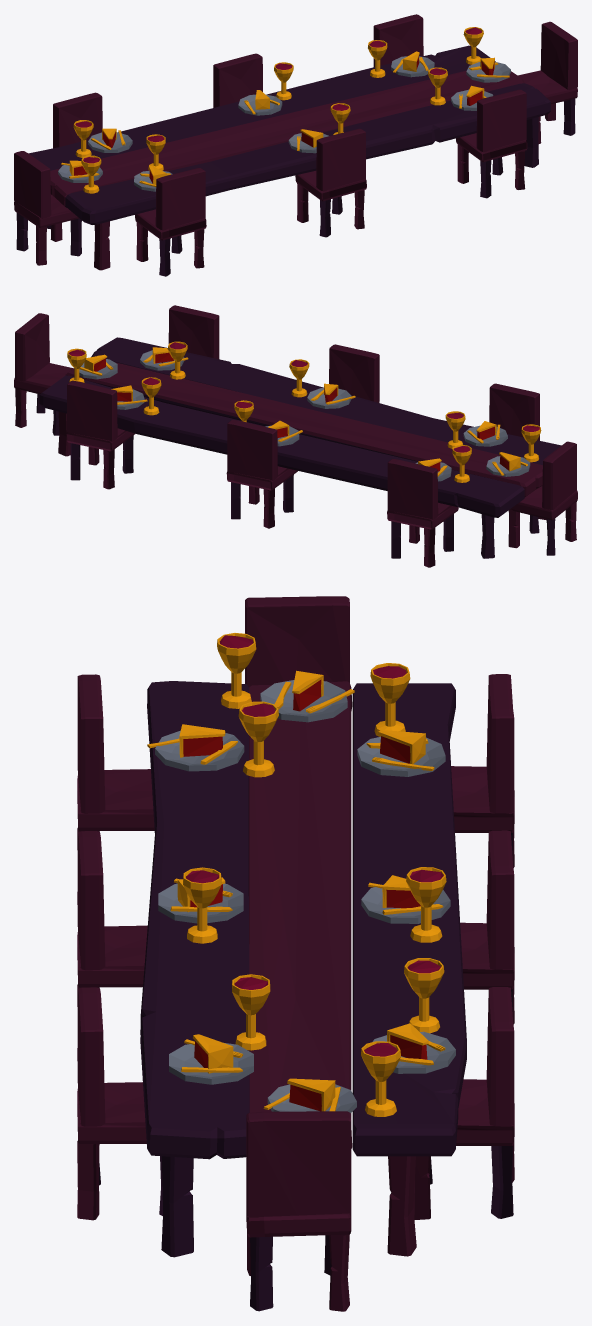
File: prop_feast_table.FBX
The picture shows the model from 3 angles, top to bottom: view 1: azimuth 30°, elevation 25°; view 2: azimuth 150°, elevation 25°; view 3: azimuth 270°, elevation 25°; orthographic projection. The views are drawn at different scales.
Visible parts, largest first — view 1: feast_table; view 2: feast_table; view 3: feast_table.
Boxes of the visible parts, x1,y1,x2,y2 form: feast_table: (14, 14, 577, 276); feast_table: (14, 305, 577, 567); feast_table: (77, 596, 514, 1311).
Bounding box in the file's own units: 15.2 × 2.63 × 5.34.
